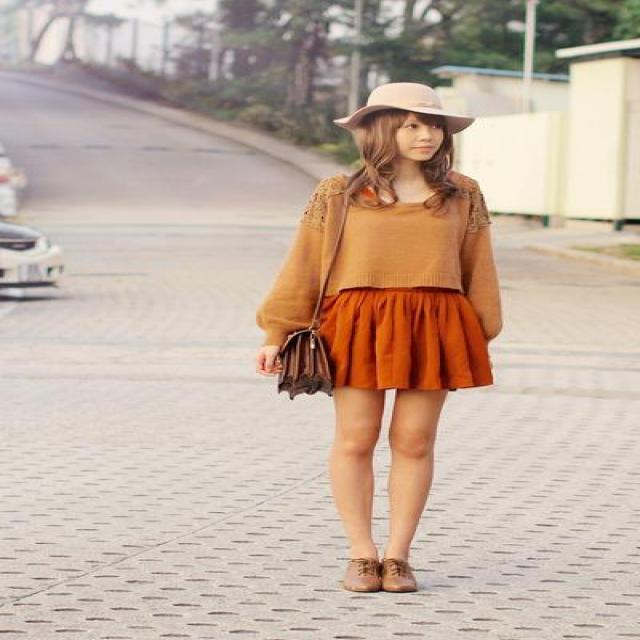bag: (259, 327, 331, 396)
hat: (367, 77, 458, 114)
shirt: (256, 170, 501, 344)
shoe: (346, 553, 422, 592)
skirt: (288, 274, 493, 391)
